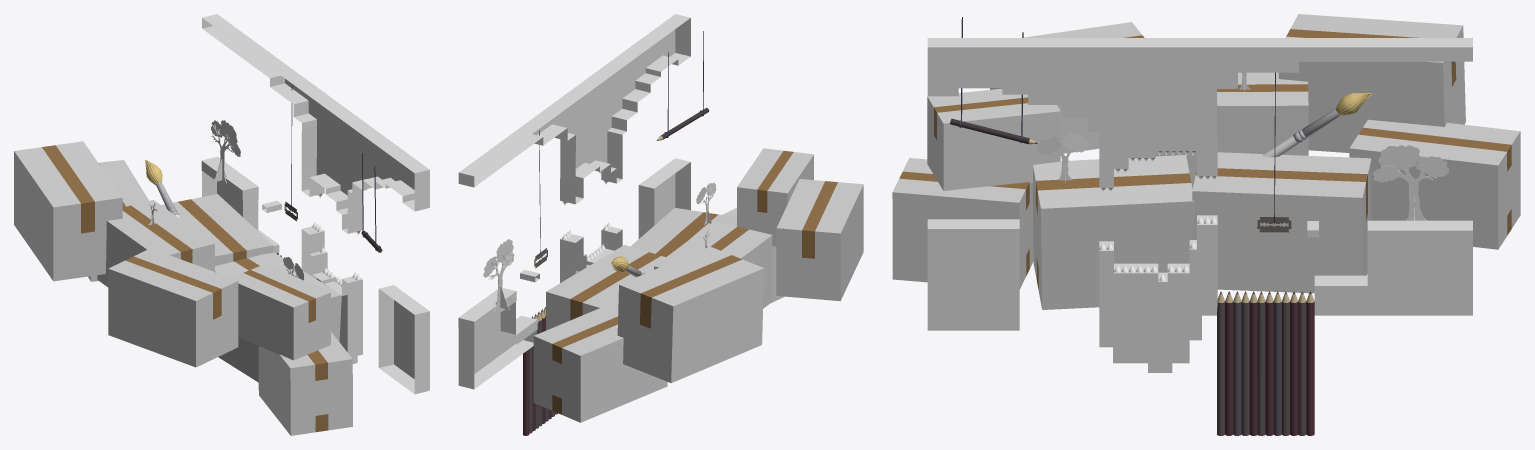
Rendered from Pantalla 11-DEF.fbx.
The picture shows the model from 3 angles, left to right: view 1: azimuth 30°, elevation 25°; view 2: azimuth 150°, elevation 25°; view 3: azimuth 270°, elevation 25°; orthographic projection. The views are drawn at different scales.
Parts seen in each view (by area): view 1: Cube.008, Cube.011, Cube.007, Caja_1.002, Cube.001, Caja_1.001, Cube.010, Cube, Caja_1, Cube.009, Caja_1.003, Cylinder (+3 smaller); view 2: Cube.008, Cube.007, Caja_1.003, Cube.011, Cube.001, Cube, Caja_1.001, Cube.010, Caja_1, Cylinder.001, Cube.009, Arbol1.010 (+2 smaller); view 3: Cube.008, Cube, Caja_1, Cube.007, Cylinder.001, Caja_1.003, Cube.001, Cube.010, Caja_1.002, Caja_1.001, Cube.009, Cube.011 (+5 smaller).
Part boxes in pixels (x1,y1,x2,y2): Cube.008: (202, 14, 429, 363); Cube.011: (108, 248, 238, 367); Cube.007: (14, 141, 122, 281); Caja_1.002: (258, 332, 352, 435); Cube.001: (231, 264, 330, 360); Caja_1.001: (97, 200, 214, 287); Cube.010: (378, 285, 429, 394); Cube: (161, 194, 273, 265); Caja_1: (215, 252, 341, 382); Cube.009: (201, 156, 279, 254); Caja_1.003: (88, 160, 148, 281); Cylinder: (145, 159, 180, 218); Cube.008: (458, 14, 690, 389); Cube.007: (617, 246, 764, 383); Caja_1.003: (533, 300, 667, 422); Cube.011: (776, 179, 863, 301); Cube.001: (737, 148, 813, 246); Cube: (546, 245, 665, 330); Caja_1.001: (654, 221, 772, 308); Cube.010: (638, 158, 690, 238); Caja_1: (630, 208, 736, 256); Cylinder.001: (523, 307, 557, 435); Cube.009: (458, 287, 537, 344); Arbol1.010: (483, 239, 514, 277); Cube.008: (927, 38, 1472, 372); Cube: (1192, 152, 1371, 293); Caja_1: (1032, 155, 1194, 309); Cube.007: (1278, 14, 1465, 152); Cylinder.001: (1217, 291, 1314, 435); Caja_1.003: (1349, 119, 1520, 249); Cube.001: (927, 88, 1060, 190); Cube.010: (927, 219, 1019, 330); Caja_1.002: (892, 158, 1033, 289); Caja_1.001: (1156, 72, 1308, 188); Cube.009: (1314, 220, 1472, 299); Cube.011: (990, 22, 1144, 153).
Bounding box in the file's own units: 5350 × 6462 × 9362.
